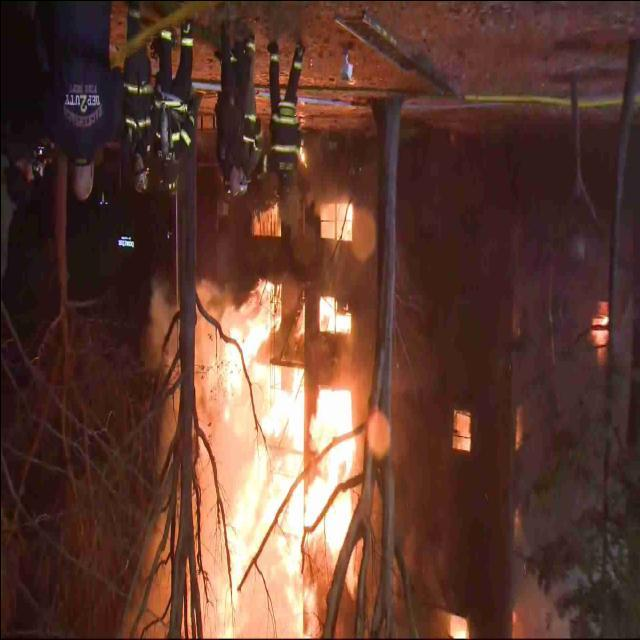Fire: (207, 190, 366, 628), (587, 274, 617, 362), (446, 405, 478, 463)
